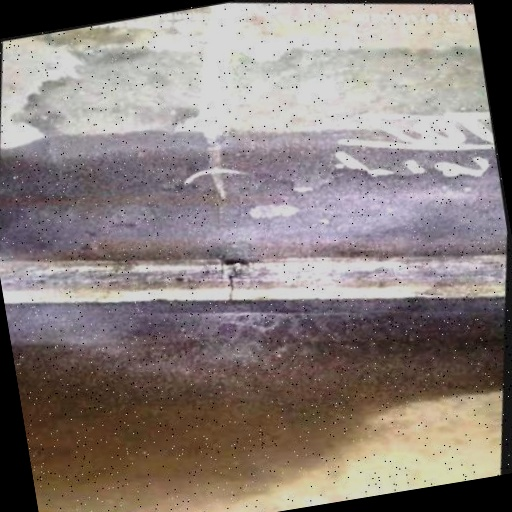crack: (220, 267, 247, 304)
